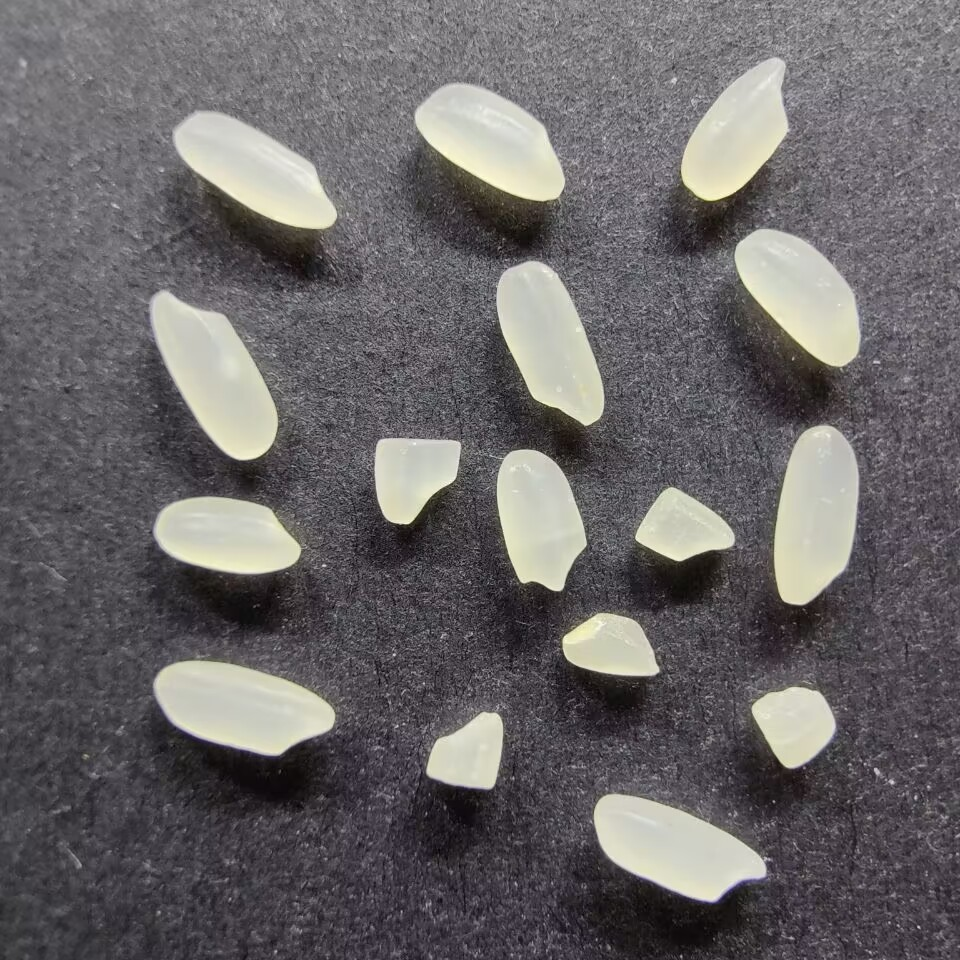broken: (632, 485, 739, 563), (373, 436, 464, 526), (748, 684, 839, 772), (559, 612, 662, 678), (424, 710, 506, 792)
rice: (148, 286, 279, 462), (171, 110, 341, 231), (590, 792, 766, 904), (493, 260, 606, 428), (412, 81, 566, 203), (732, 226, 864, 368), (151, 659, 337, 757), (678, 53, 791, 202), (771, 423, 862, 606), (493, 447, 589, 591), (151, 494, 302, 576)
